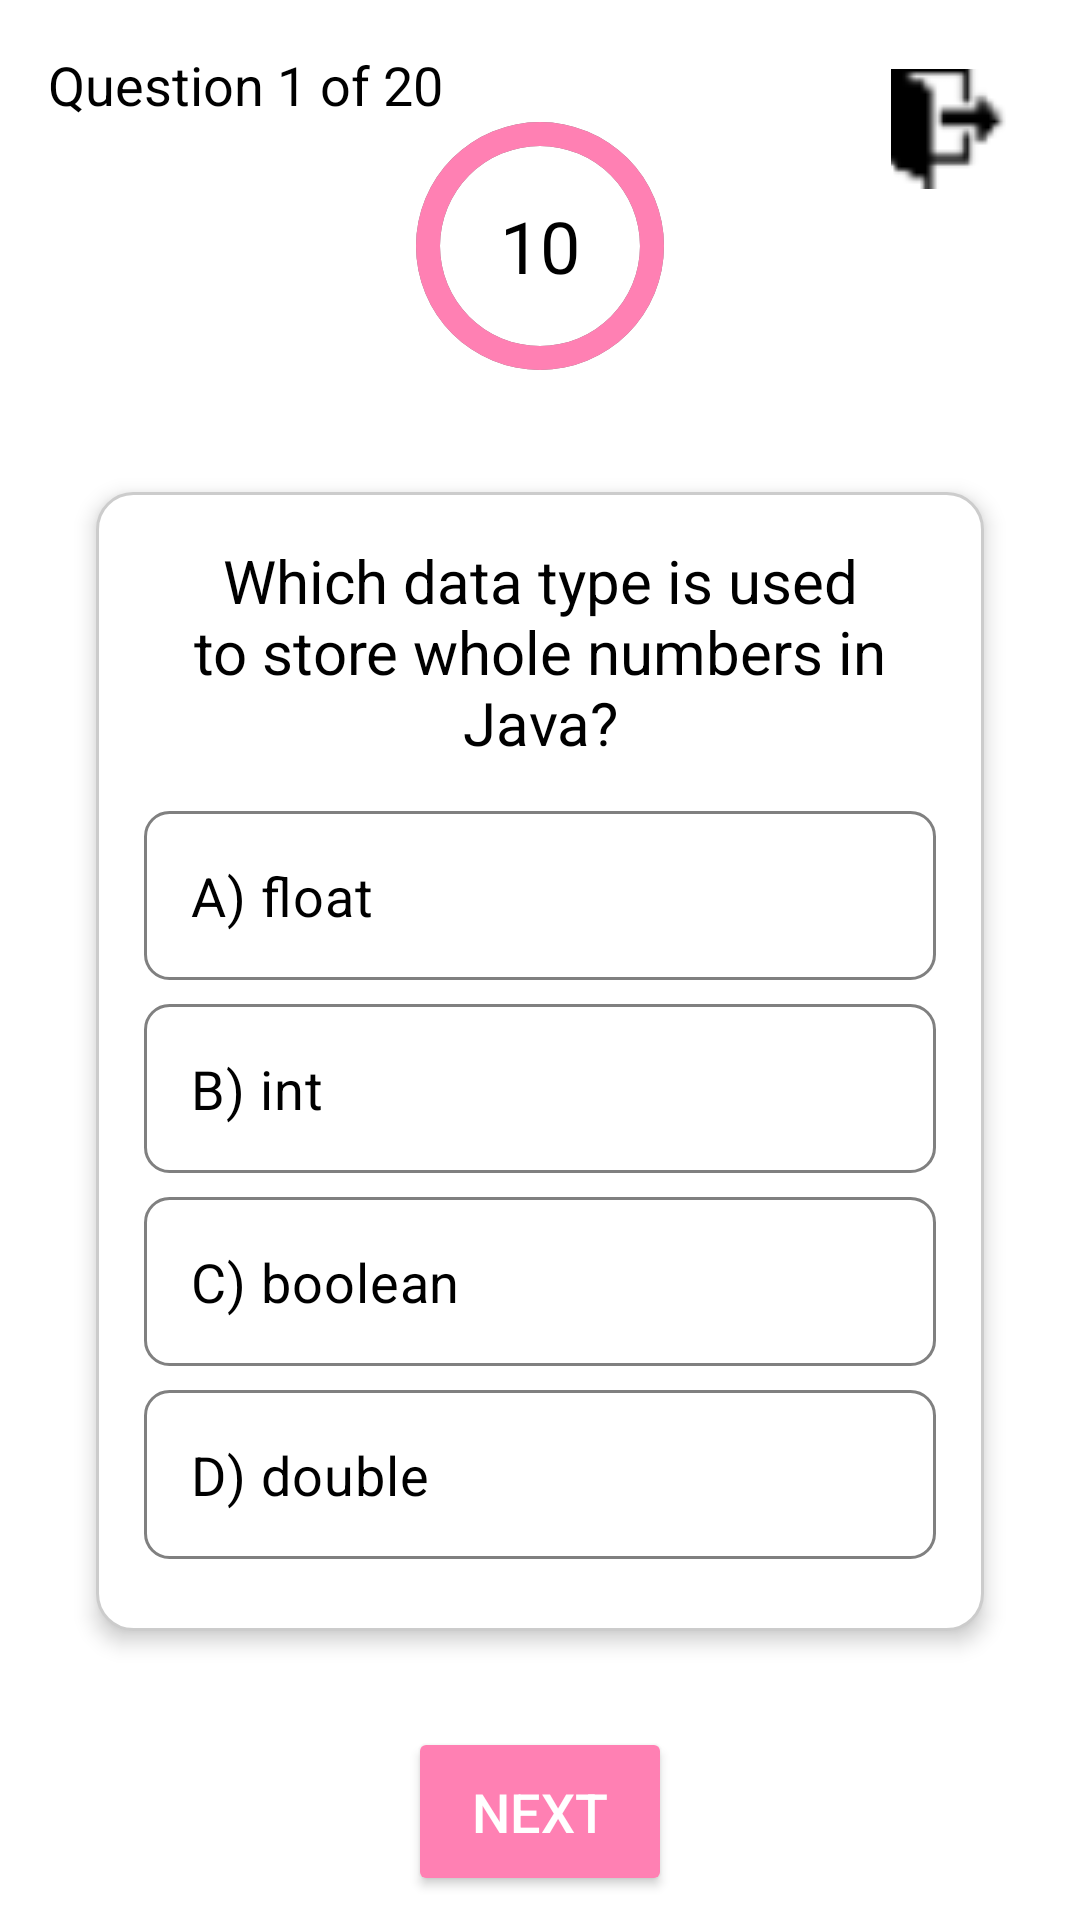

Screen size 1080×1920. Icon name, then its center in pixels as (x,y):
Return to main menu: (947,129)
